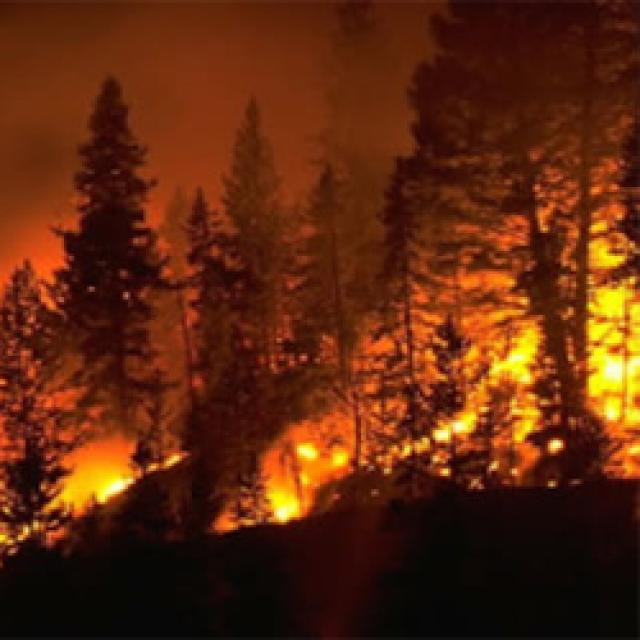Fire: (404, 237, 640, 491), (294, 430, 350, 488), (246, 486, 306, 524), (92, 462, 134, 500), (140, 448, 178, 477)
Smoke: (0, 0, 405, 302)
